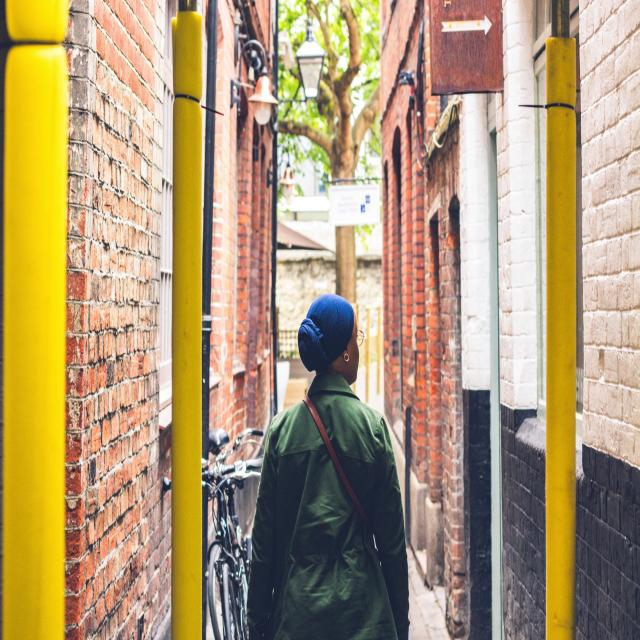adult: (250, 287, 408, 640)
